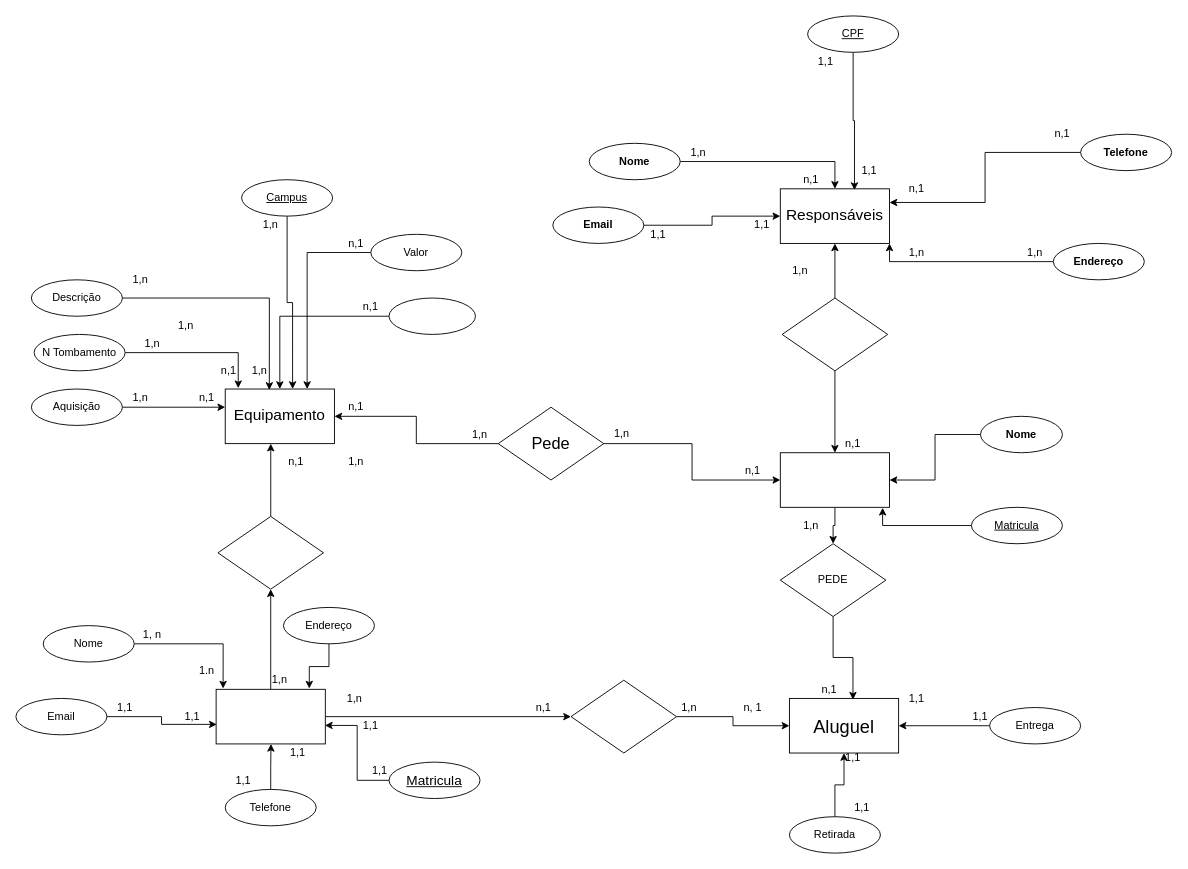
Some shapes in this 1188 by 869 pixel diagram are drawn without their labels. The centre of each missing label's shape, as x and y in pixels:
Aluno: pixel 834 479
Fabricante: pixel 431 315
Faz: pixel 623 716
Possui: pixel 834 334
Reservado: pixel 270 552
Servidor: pixel 270 716
